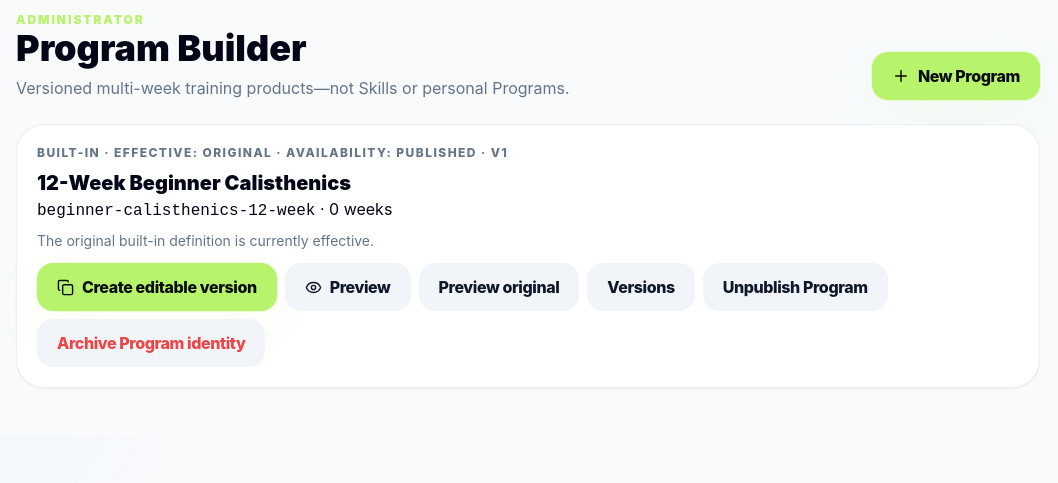
Admin Managed Program lifecycle UI › shows a localized built-in availability failure and remains recoverable
The image size is (1058, 483).
Step 1. Click the button "Unpublish Program" → (795, 287), box top-left (703, 263), bottom-right (888, 311)
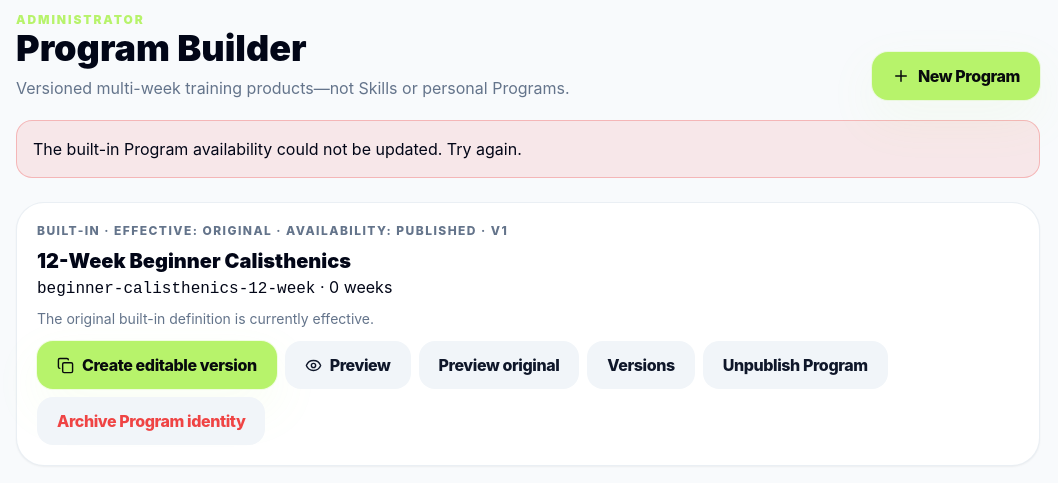
Expected: the button "Unpublish Program" is enabled, top-left (703, 341), bottom-right (888, 389)
Expected: the message reads "The built-in Program availability could not be updated. Try again.", top-left (33, 139), bottom-right (522, 159)
